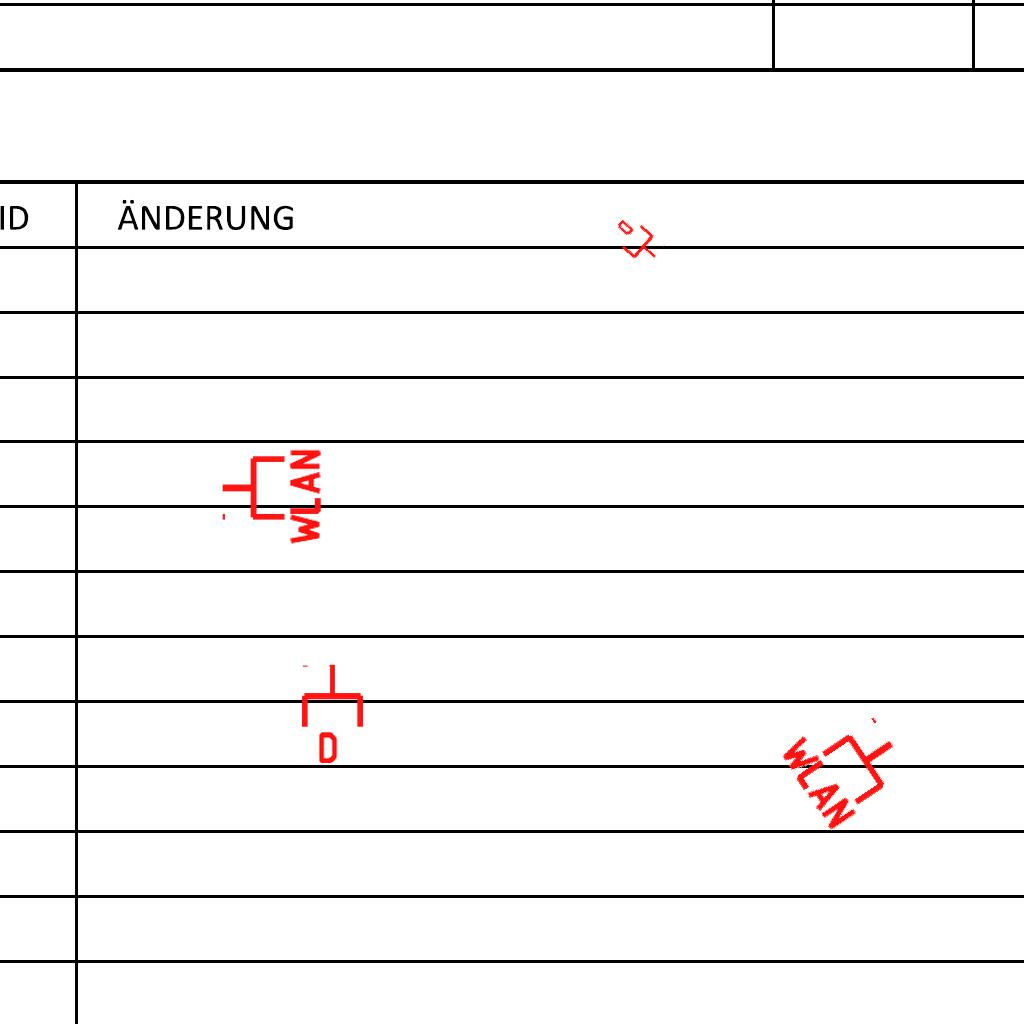Datenanschluss_einfach: (298, 663, 367, 763), (606, 211, 668, 271)
WLAN: (773, 690, 920, 836), (218, 445, 323, 549)
